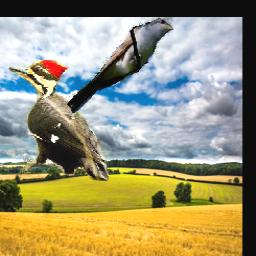Cuckoo: (67, 17, 173, 113)
Woodpecker: (6, 61, 109, 182)
